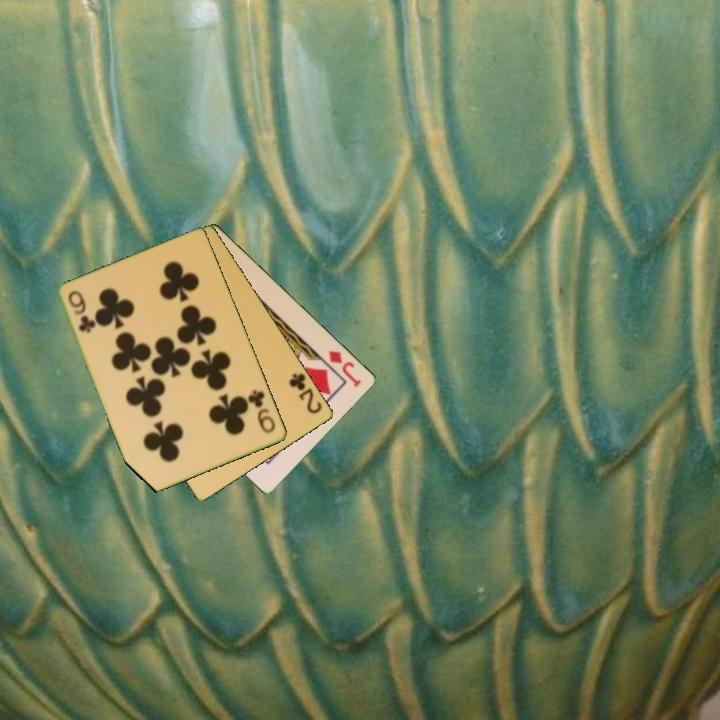2c: (286, 369, 325, 417)
9c: (245, 387, 279, 436), (65, 287, 98, 336)
Jd: (325, 347, 365, 390)
